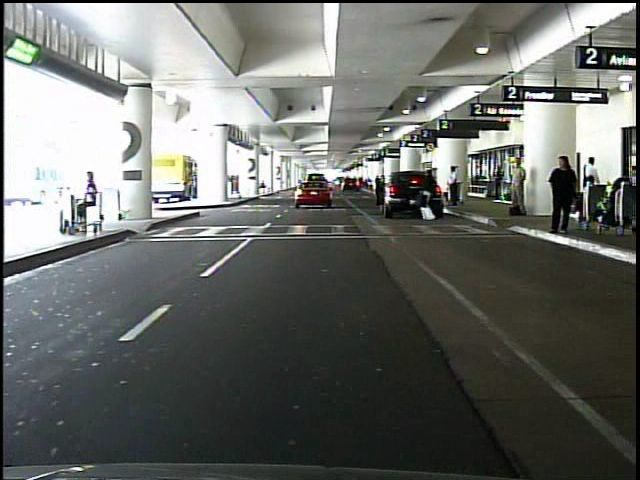person: (547, 151, 577, 240), (66, 168, 100, 231), (579, 156, 599, 212), (422, 166, 438, 223), (448, 165, 463, 208), (493, 162, 505, 201)
